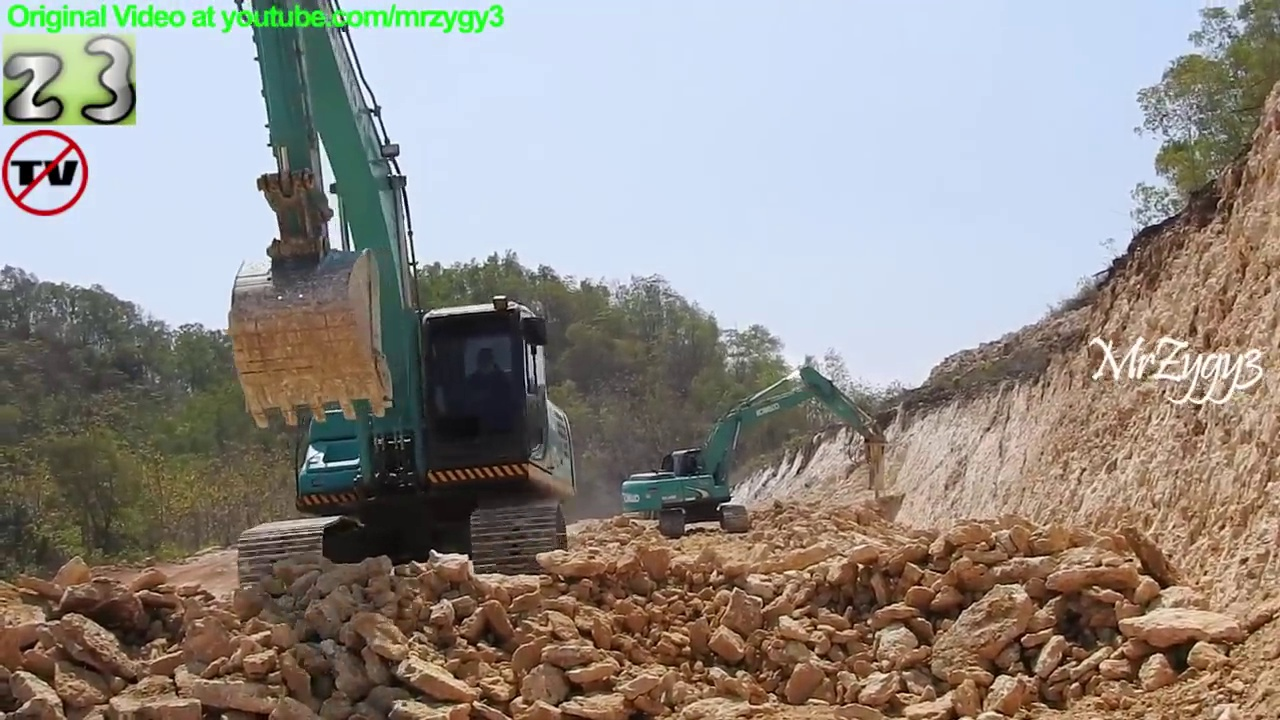excavator: (224, 1, 586, 606)
excavator breaker: (617, 364, 891, 540)
